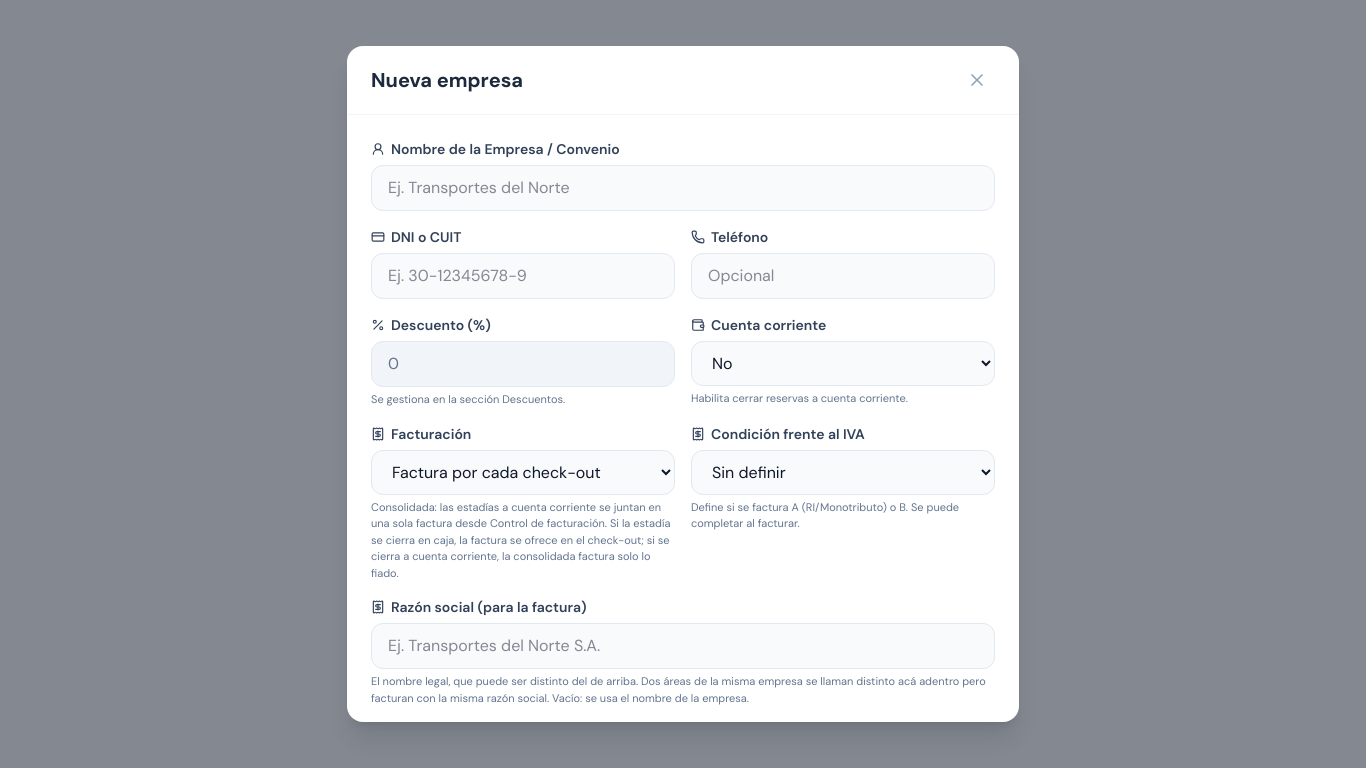
Test: AssociatedClientModal: cuenta corriente y modo de facturación › poner Cuenta corriente = Sí deja elegida 'Factura consolidada' y muestra la nota
Type "30-12345678-1" into the field labelled "DNI o CUIT". click: point(523, 276)
box: 371,253 -> 675,299
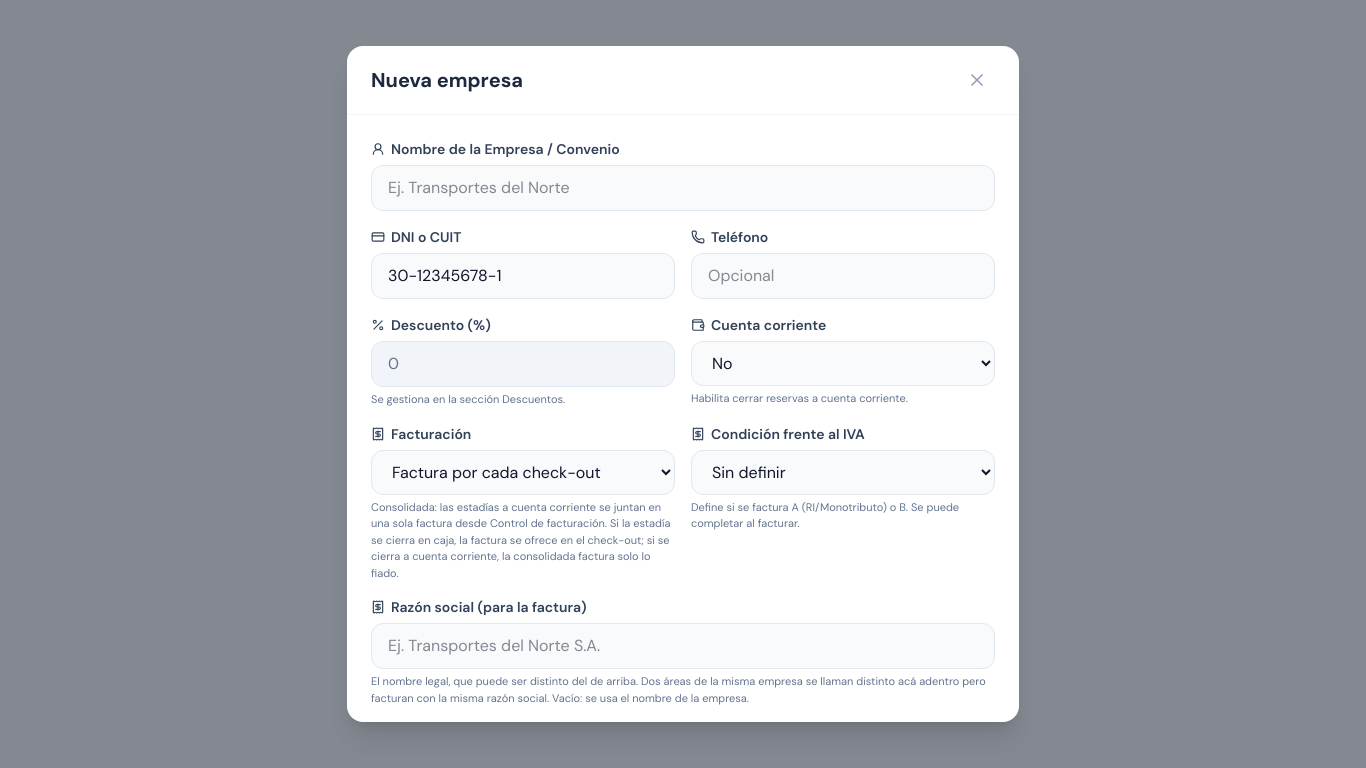
Select "Sí — habilitada a fiar" in the dropdown labelled "Cuenta corriente". click: point(843, 364)
box: 691,341 -> 995,386
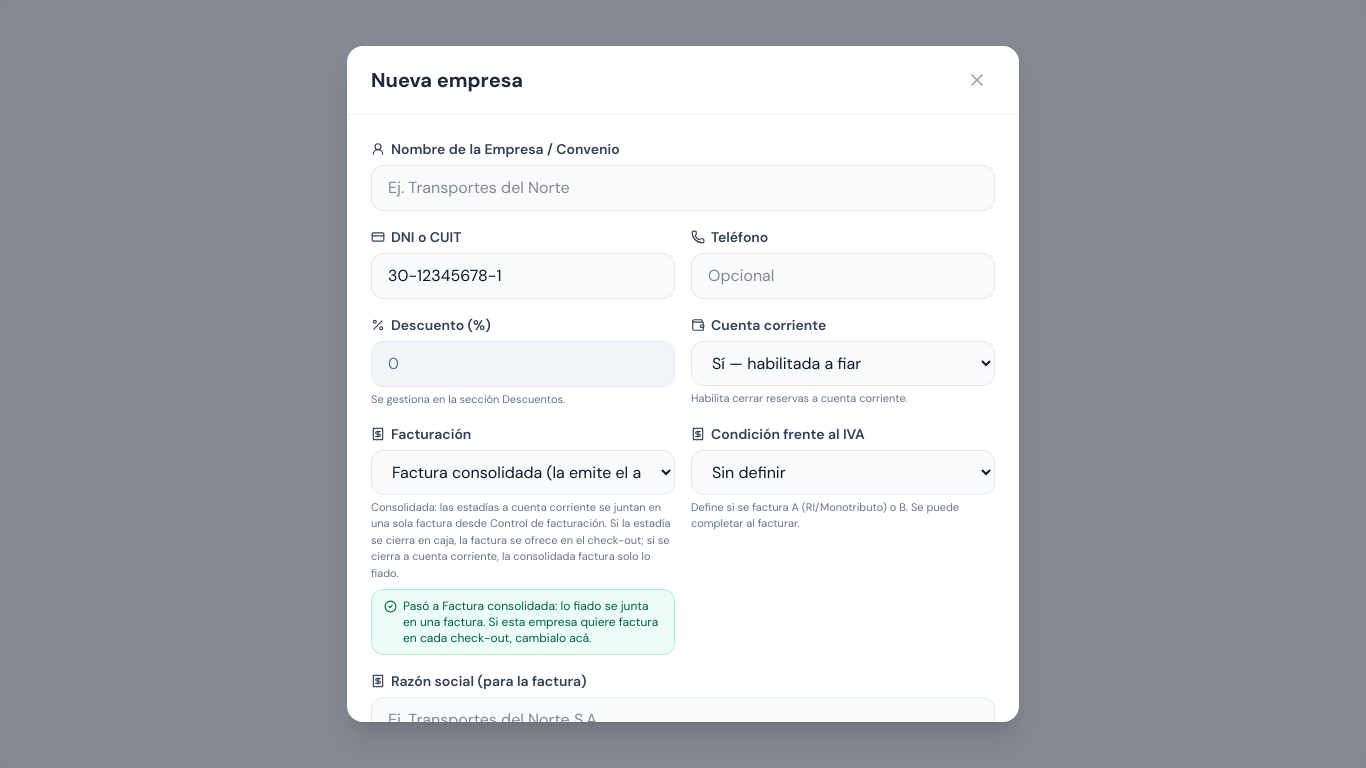
Expected: the dropdown labelled "Facturación" shows "Factura consolidada (la emite el admin)", 371,450 -> 675,495
Expected: the text "Pasó a Factura consolidada" is shown, 403,598 -> 658,646
